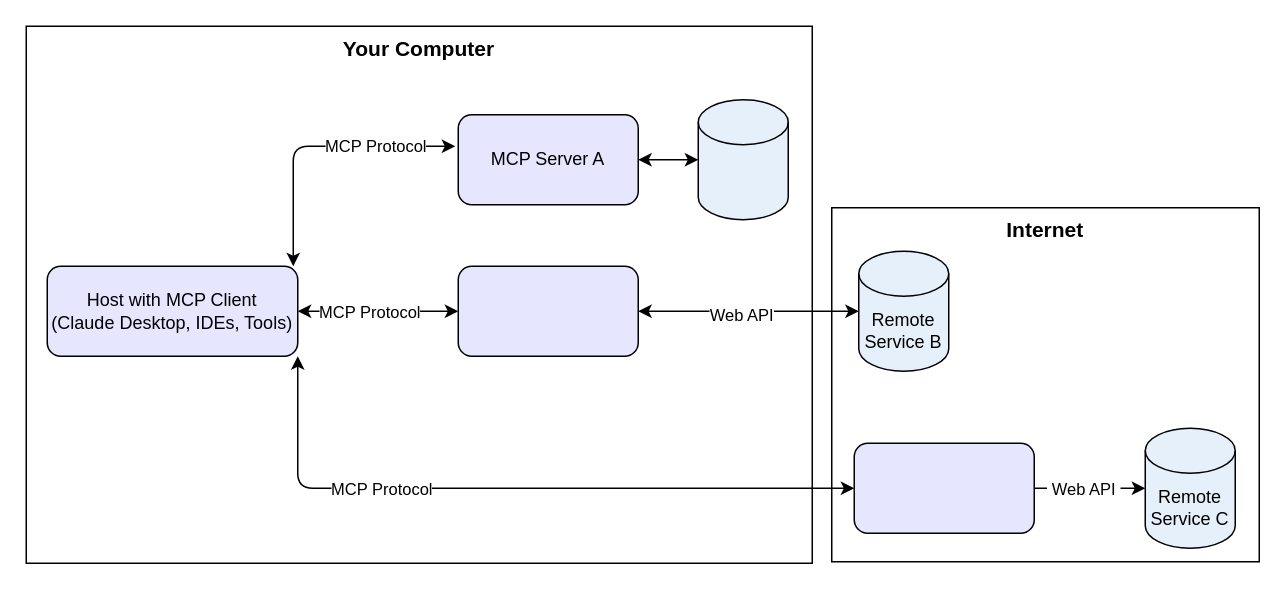
Image size: 1286x590. Some labels were removed from this diagram. Here are the shapes that lost their labels. From the top down, the centre of each, then its label:
(742,159): Local Data Source A
(547,310): MCP Server B
(943,487): MCP Server C
